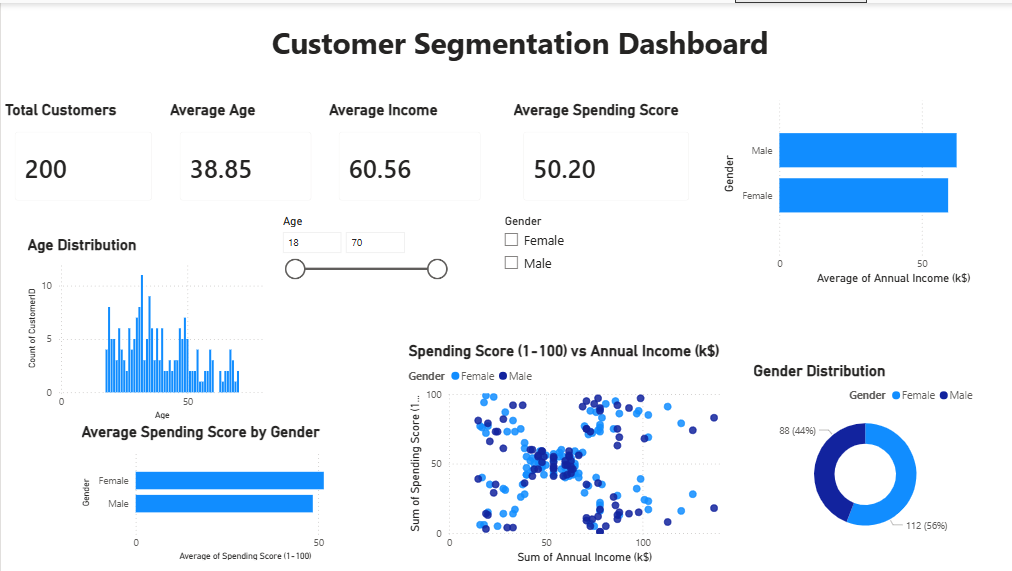

What the dashboard file says about the page in this screenshot:
{"tool":"powerbi","page":{"name":"Customer Sementation Dashboard","canvas":[1280,720],"ordinal":0},"visuals":[{"type":"cardVisual","title":"Total Customers","fields":{"Data":["Count(Mall_Customers.CustomerID)"]},"box":[0,131.7,208.3,143.3],"z":0},{"type":"donutChart","title":"Gender Distribution","fields":{"Category":["Mall_Customers.Gender"],"Y":["CountNonNull(Mall_Customers.CustomerID)"]},"box":[781.7,458.3,323.3,233.3],"z":1000},{"type":"clusteredColumnChart","title":"Age Distribution","fields":{"Category":["Mall_Customers.Age"],"Y":["CountNonNull(Mall_Customers.CustomerID)"]},"box":[28.3,458.3,310,261.7],"z":2000},{"type":"cardVisual","title":"Average Age","fields":{"Data":["Avg(Mall_Customers.Age)"]},"box":[208.3,131.7,200,143.3],"z":3000},{"type":"cardVisual","title":"Average Income","fields":{"Data":["Avg(Mall_Customers.Annual Income (k$))"]},"box":[396.7,131.7,213.3,143.3],"z":4000},{"type":"cardVisual","title":"Average Spending Score","fields":{"Data":["Avg(Mall_Customers.Spending Score (1-100))"]},"box":[563.3,121.7,245,143.3],"z":5000},{"type":"scatterChart","title":"Spending Score (1-100) vs Annual Income (k$)   ","fields":{"X":["Sum(Mall_Customers.Annual Income (k$))"],"Y":["Sum(Mall_Customers.Spending Score (1-100))"],"Series":["Mall_Customers.Gender"],"Category":["Mall_Customers.CustomerID"]},"box":[368.3,445,388.3,275],"z":6000},{"type":"clusteredBarChart","title":"Average Income  by Gender","fields":{"Category":["Mall_Customers.Gender"],"Y":["Avg(Mall_Customers.Annual Income (k$))"]},"box":[796.7,48.3,293.3,191.7],"z":7000},{"type":"clusteredBarChart","title":"Average Spending Score by Gender","fields":{"Category":["Mall_Customers.Gender"],"Y":["Avg(Mall_Customers.Spending Score (1-100))"]},"box":[743.3,265,361.7,176.7],"z":8000},{"type":"slicer","fields":{"Values":["Mall_Customers.Gender"]},"box":[376.7,275,186.7,121.7],"z":9000},{"type":"slicer","fields":{"Values":["Mall_Customers.Age"]},"box":[68.3,275,230,150],"z":10000},{"type":"textbox","box":[28.3,18.9,1251,103.9],"z":11000}]}

Visuals, with their boxes in screenshot pixels (x1, y1, x2, y2), scaled from the page's 1280x720 canvas onto the 1012x571 screenshot:
"Total Customers" cardVisual: pyautogui.locateOnScreen(0, 104, 165, 218)
"Gender Distribution" donutChart: pyautogui.locateOnScreen(618, 363, 874, 548)
"Age Distribution" clusteredColumnChart: pyautogui.locateOnScreen(22, 363, 267, 570)
"Average Age" cardVisual: pyautogui.locateOnScreen(165, 104, 323, 218)
"Average Income" cardVisual: pyautogui.locateOnScreen(314, 104, 482, 218)
"Average Spending Score" cardVisual: pyautogui.locateOnScreen(445, 97, 639, 210)
"Spending Score (1-100) vs Annual Income (k$)   " scatterChart: pyautogui.locateOnScreen(291, 353, 598, 570)
"Average Income  by Gender" clusteredBarChart: pyautogui.locateOnScreen(630, 38, 862, 190)
"Average Spending Score by Gender" clusteredBarChart: pyautogui.locateOnScreen(588, 210, 874, 350)
slicer - Mall_Customers.Gender: pyautogui.locateOnScreen(298, 218, 445, 315)
slicer - Mall_Customers.Age: pyautogui.locateOnScreen(54, 218, 236, 337)
textbox: pyautogui.locateOnScreen(22, 15, 1011, 97)
